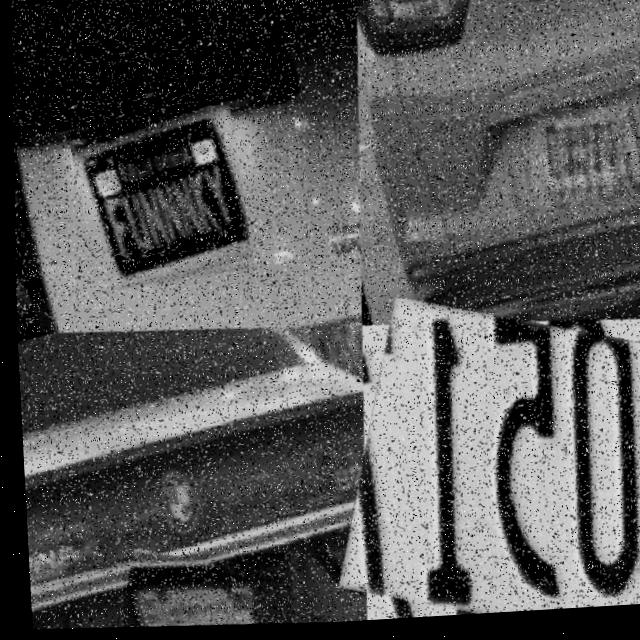LicensePlate: (331, 300, 640, 625), (66, 106, 252, 293), (114, 549, 286, 634), (523, 110, 625, 215)
